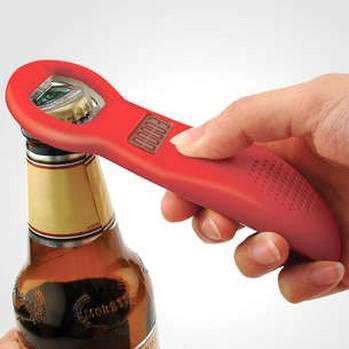beer: (12, 79, 161, 349)
